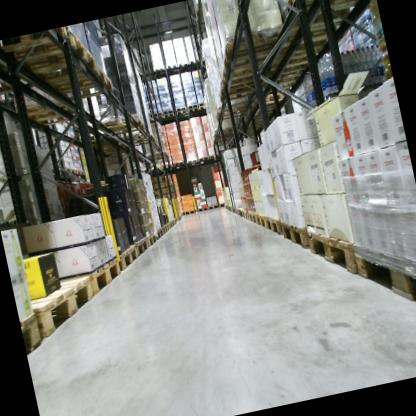pallet: (351, 226, 416, 327), (6, 25, 101, 92), (22, 272, 101, 340), (27, 57, 117, 115), (305, 219, 360, 281), (217, 32, 286, 75), (73, 255, 126, 299), (17, 91, 76, 130), (0, 27, 69, 56), (216, 54, 267, 89), (214, 72, 268, 102), (279, 215, 313, 256), (100, 112, 145, 138), (19, 311, 45, 356), (115, 243, 142, 271), (214, 99, 249, 120), (116, 132, 156, 150), (264, 210, 285, 239), (132, 236, 150, 257), (212, 126, 237, 140), (144, 151, 170, 163), (255, 210, 268, 231), (144, 231, 158, 248), (247, 208, 258, 227), (151, 227, 164, 242), (172, 159, 187, 168), (162, 111, 176, 120), (243, 208, 251, 223), (187, 105, 200, 114), (208, 152, 222, 160), (186, 156, 198, 165), (207, 202, 220, 210), (197, 154, 209, 162), (149, 166, 162, 173), (160, 223, 168, 234), (164, 221, 172, 232), (176, 109, 188, 116), (161, 164, 173, 171), (183, 209, 195, 216), (196, 205, 208, 212), (239, 207, 245, 219), (233, 205, 240, 215), (152, 114, 163, 120), (198, 103, 207, 110), (219, 201, 227, 208), (169, 219, 175, 227), (172, 218, 177, 226)
